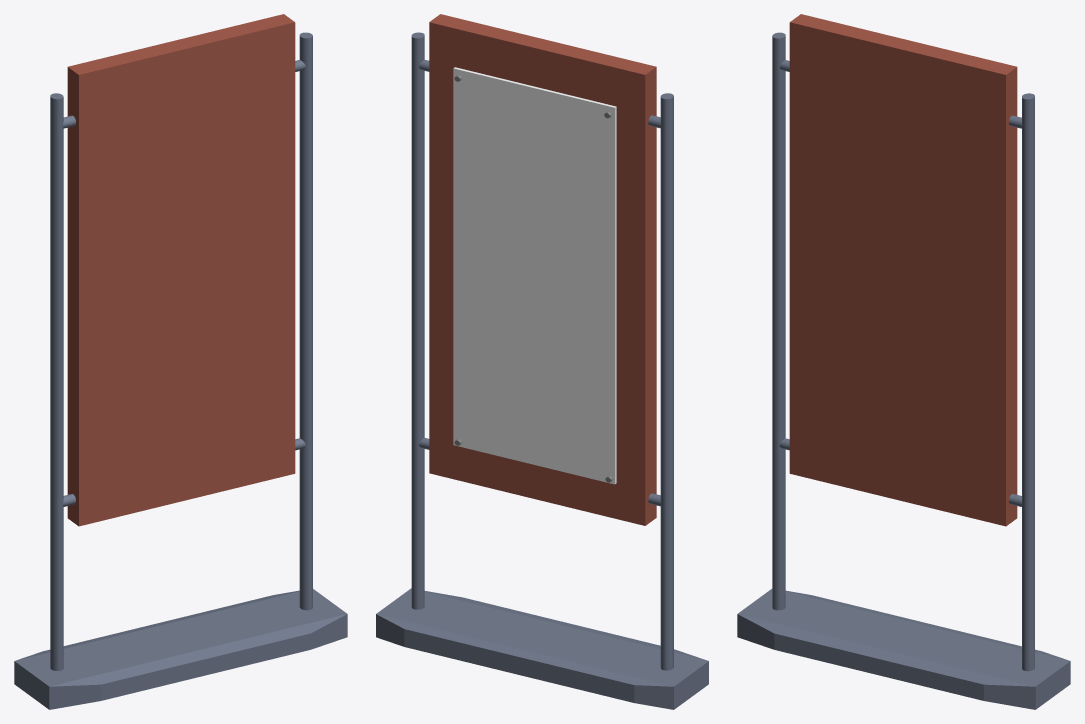
The model's file is afiche.fbx.
3 renders of one model, left to right at view 1: azimuth 30°, elevation 25°; view 2: azimuth 150°, elevation 25°; view 3: azimuth 330°, elevation 25°, orthographic.
Visible parts, largest first — view 1: Cilindro.003; view 2: Cilindro.003; view 3: Cilindro.003.
Part boxes in pixels (left/top/right/bottom): Cilindro.003: left=14, top=14, right=347, bottom=709; Cilindro.003: left=376, top=14, right=708, bottom=709; Cilindro.003: left=737, top=14, right=1070, bottom=709.
Bounding box in the file's own units: 90 × 178 × 25.04.
